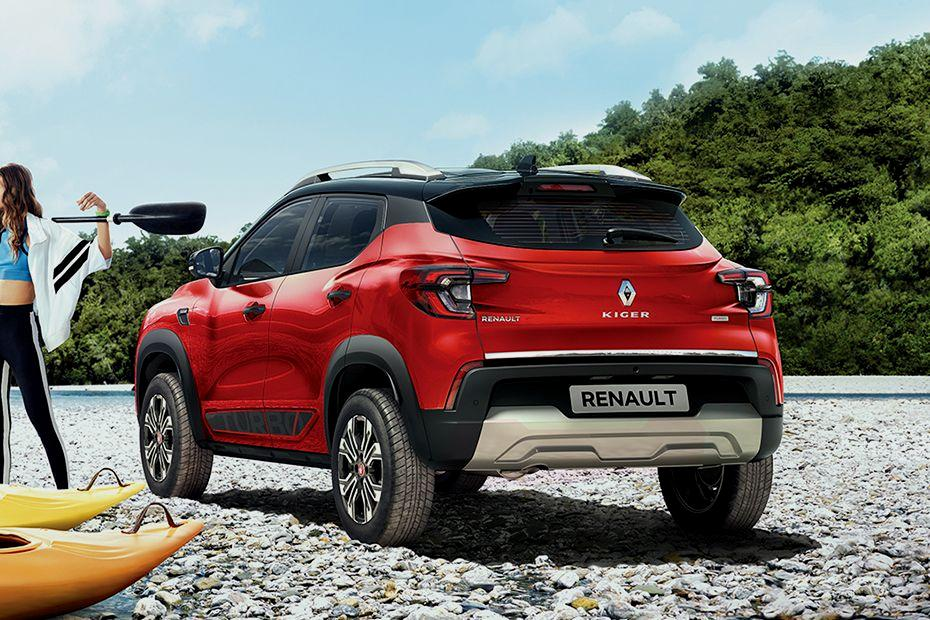Renault: (607, 271, 648, 315)
